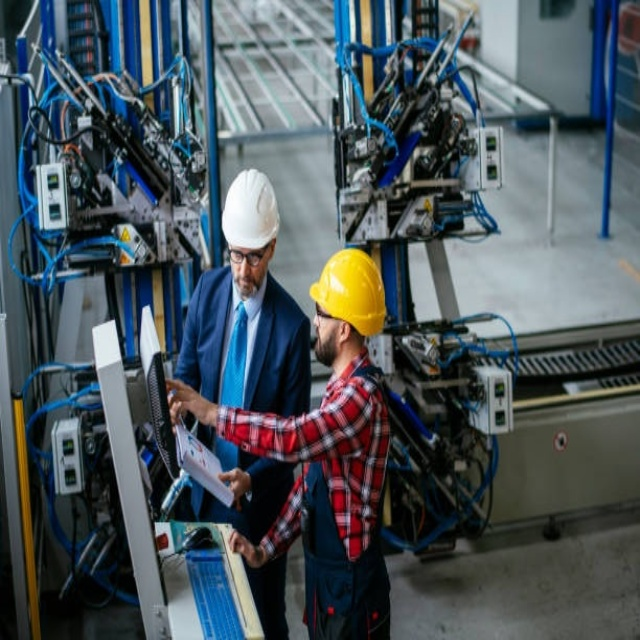Gafas: (228, 243, 270, 267), (315, 303, 341, 322)
Sin_guantes: (165, 375, 207, 420), (215, 465, 252, 510), (224, 526, 260, 566)
Sin_mascara: (314, 322, 333, 355), (235, 275, 257, 287)
